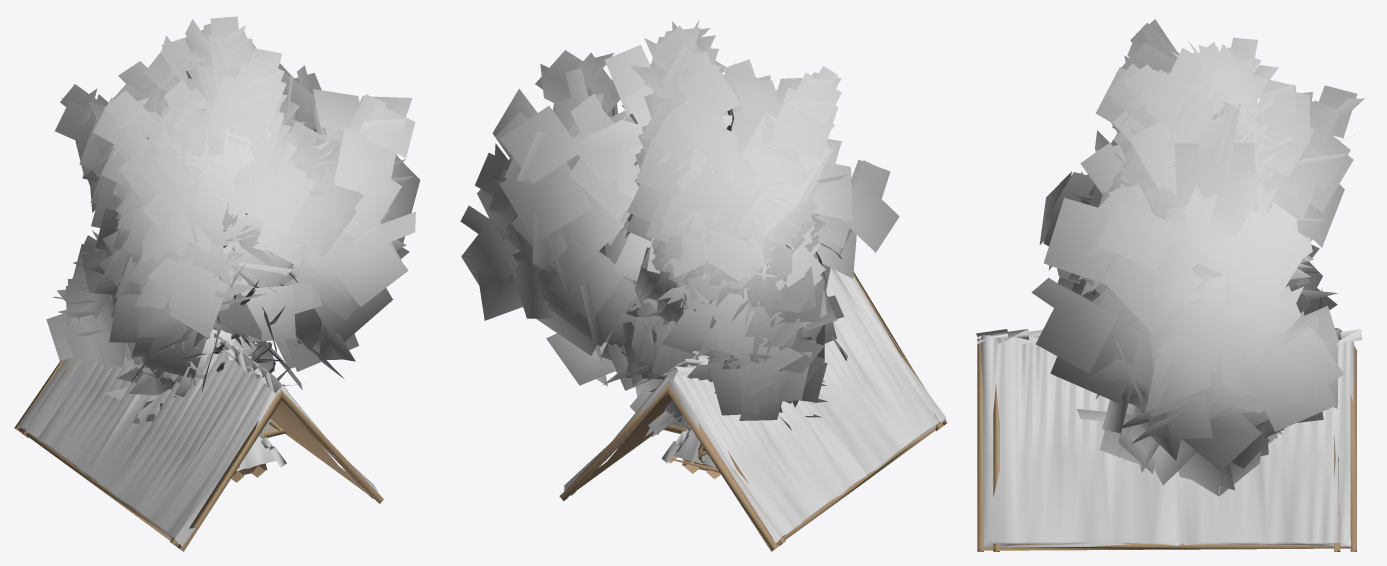
The model's file is qnature.glb.
3 renders of one model, left to right at view 1: azimuth 30°, elevation 25°; view 2: azimuth 150°, elevation 25°; view 3: azimuth 270°, elevation 25°, orthographic. The views are drawn at different scales.
Parts seen in each view (by area): view 1: TwistedTree_Big, Roof_RoundTiles_8x12, TwistedTree_3, TwistedTree_1, TwistedTree_5, Roof_Tower_RoundTiles, CommonTree_3, CommonTree_2, Pine_4; view 2: TwistedTree_1, Roof_RoundTiles_8x12, TwistedTree_Big, TwistedTree_3, TwistedTree_5, Roof_Tower_RoundTiles; view 3: TwistedTree_1, Roof_RoundTiles_8x12, TwistedTree_Big, TwistedTree_3, TwistedTree_5.
Boxes of the visible parts, left/top/right/bottom form: TwistedTree_Big: left=55, top=16, right=340, bottom=373; Roof_RoundTiles_8x12: left=14, top=336, right=383, bottom=551; TwistedTree_3: left=46, top=78, right=363, bottom=378; TwistedTree_1: left=178, top=43, right=419, bottom=379; TwistedTree_5: left=73, top=89, right=319, bottom=293; Roof_Tower_RoundTiles: left=231, top=432, right=286, bottom=482; CommonTree_3: left=141, top=327, right=256, bottom=384; CommonTree_2: left=149, top=340, right=258, bottom=397; Pine_4: left=103, top=374, right=157, bottom=399; TwistedTree_1: left=460, top=44, right=735, bottom=422; Roof_RoundTiles_8x12: left=559, top=268, right=947, bottom=551; TwistedTree_Big: left=628, top=19, right=851, bottom=423; TwistedTree_3: left=602, top=105, right=899, bottom=437; TwistedTree_5: left=626, top=89, right=847, bottom=345; Roof_Tower_RoundTiles: left=661, top=425, right=720, bottom=479; TwistedTree_1: left=1031, top=102, right=1343, bottom=496; Roof_RoundTiles_8x12: left=976, top=329, right=1362, bottom=551; TwistedTree_Big: left=1045, top=19, right=1364, bottom=299; TwistedTree_3: left=1039, top=111, right=1344, bottom=467; TwistedTree_5: left=1073, top=100, right=1350, bottom=312.
Bounding box in the file's own units: 16.68 × 21.06 × 14.52.
